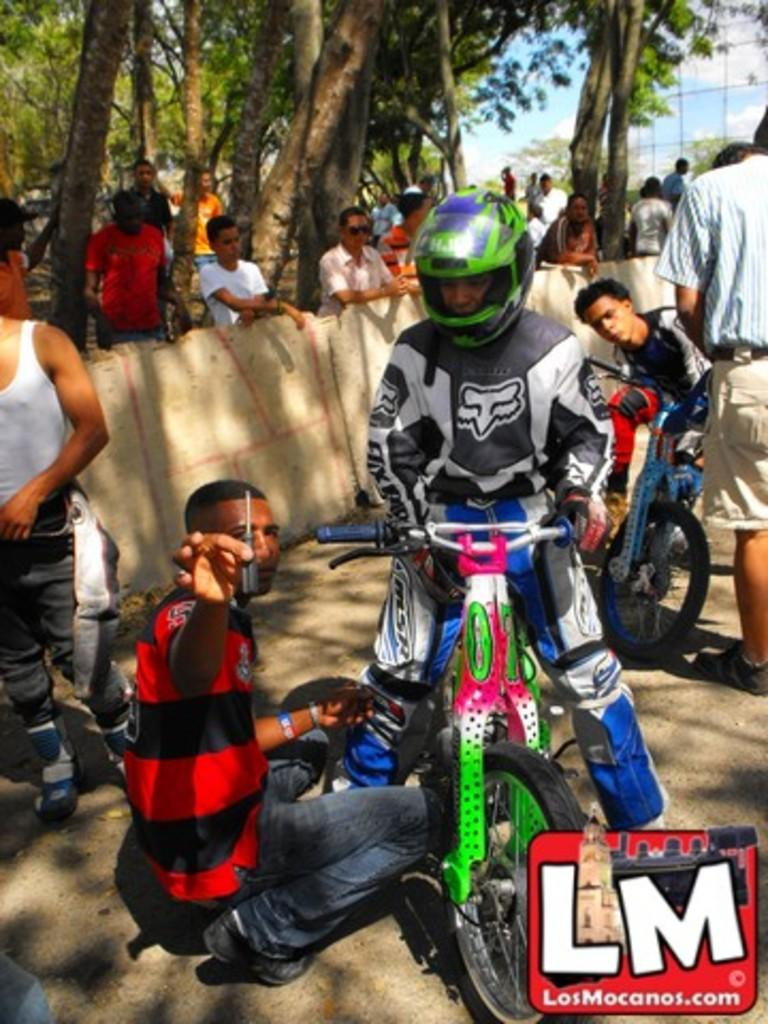helmet: (405, 187, 536, 349)
nohelmet: (183, 478, 282, 604), (573, 277, 634, 347), (205, 214, 243, 265), (110, 188, 146, 237), (336, 205, 374, 251), (132, 158, 156, 191), (566, 192, 590, 225), (642, 174, 663, 201), (539, 172, 554, 193), (675, 157, 690, 177)
